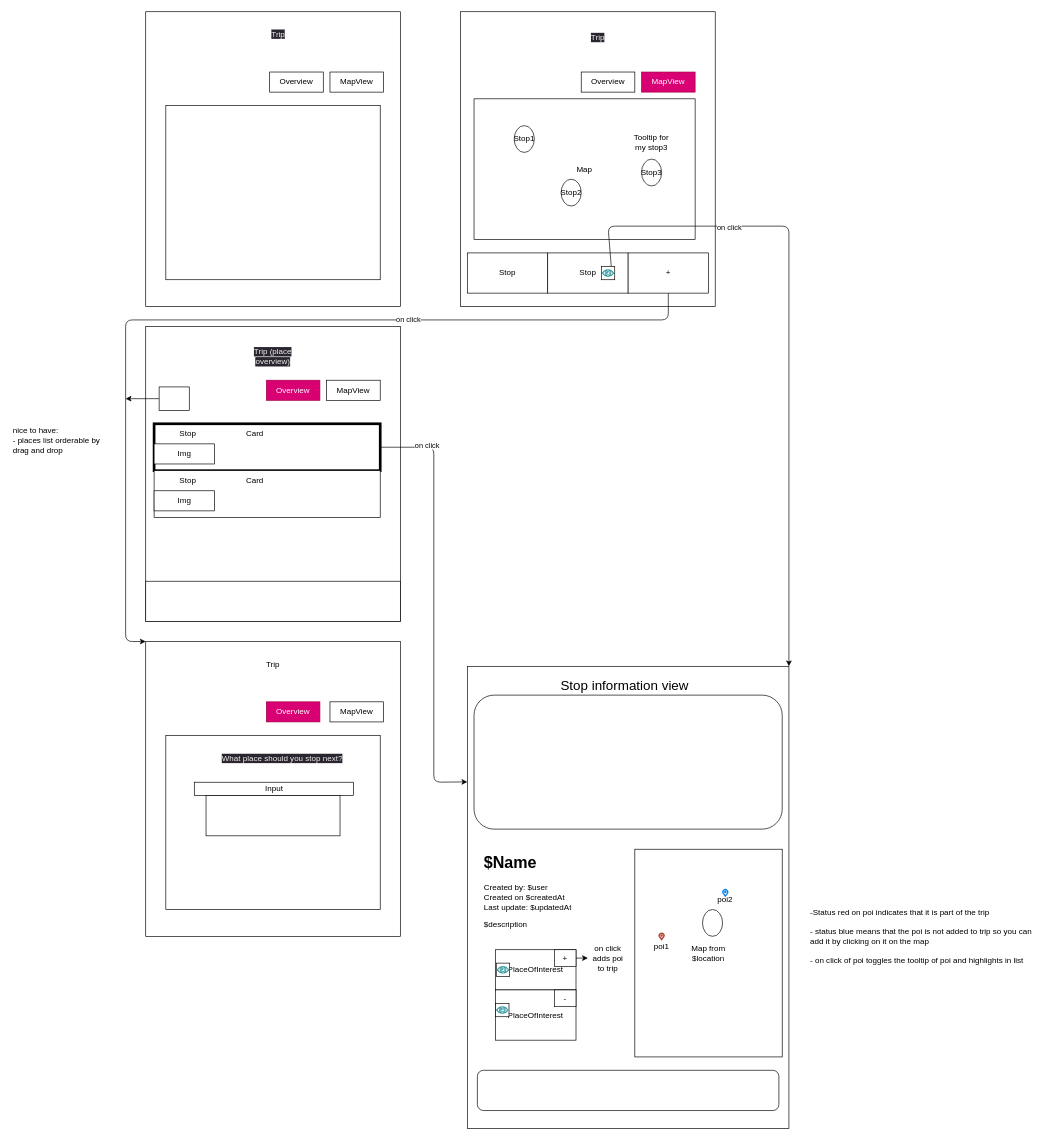
Some shapes in this 1051 by 1140 pixel diagram are drawn without their labels. The shapes that lost their labels are listed below. From the top down, each one's centre as x and y in pixels, then its label:
At (272,192): "Content".
At (173,398): "+ (Place)".
At (272,601): "Save trip".
At (627,761): "$pictureUrl".
At (272,815): "aut complete".
At (712,922): "MarkerClickked On Place".
At (628,1090): "<BUTTON> 'Save|Remove place to trip'".
